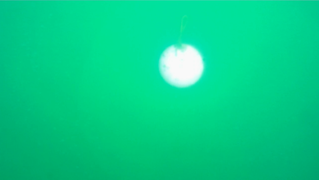buoy: (158, 43, 203, 88)
